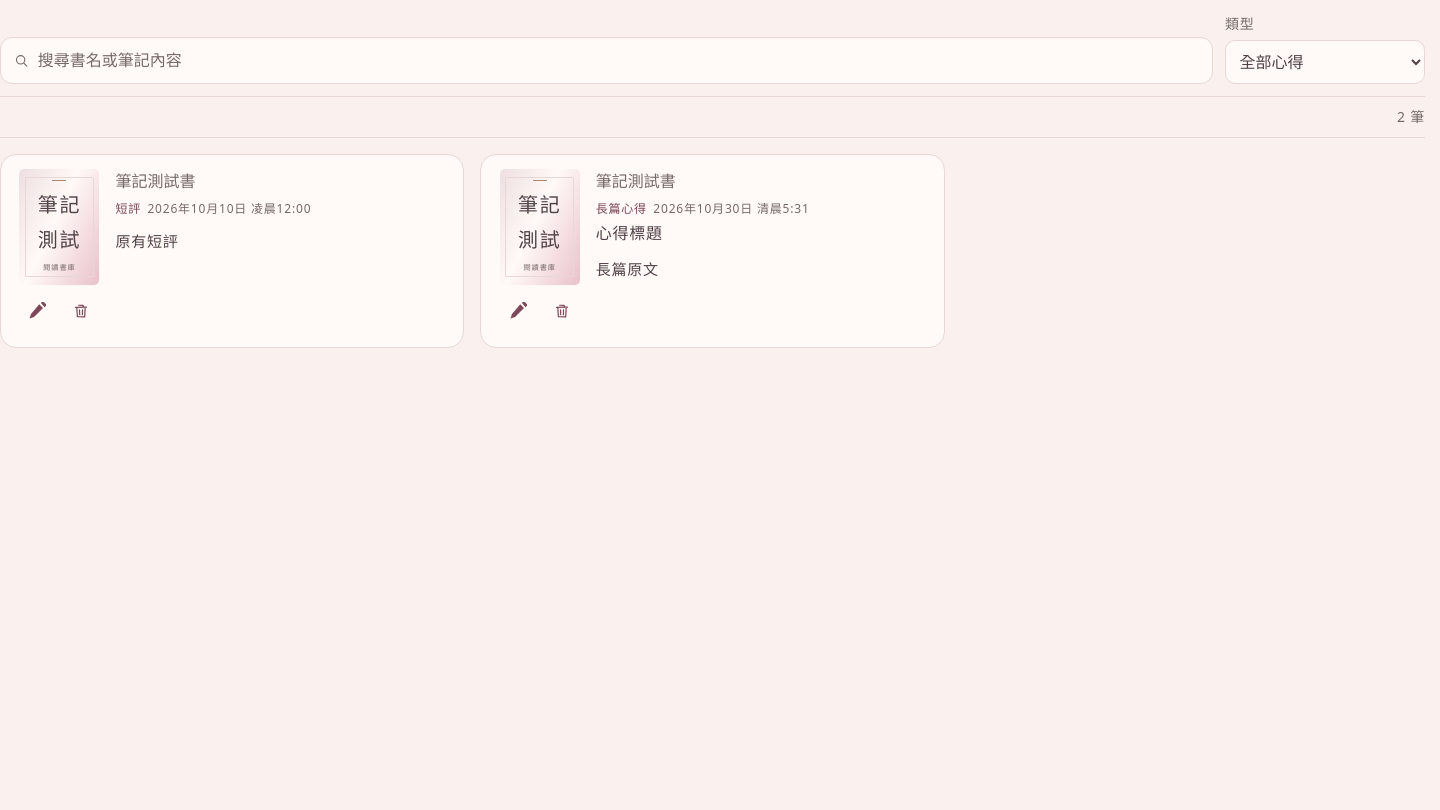
Test: edits in a dialog, preserves filters and relations, then restores the original control without scrolling
Expected: the text "原有短評" is shown, [115,231,179,251]
Step 1. Type "原有" into the search field → point(619, 61), box [38,46,1200,76]
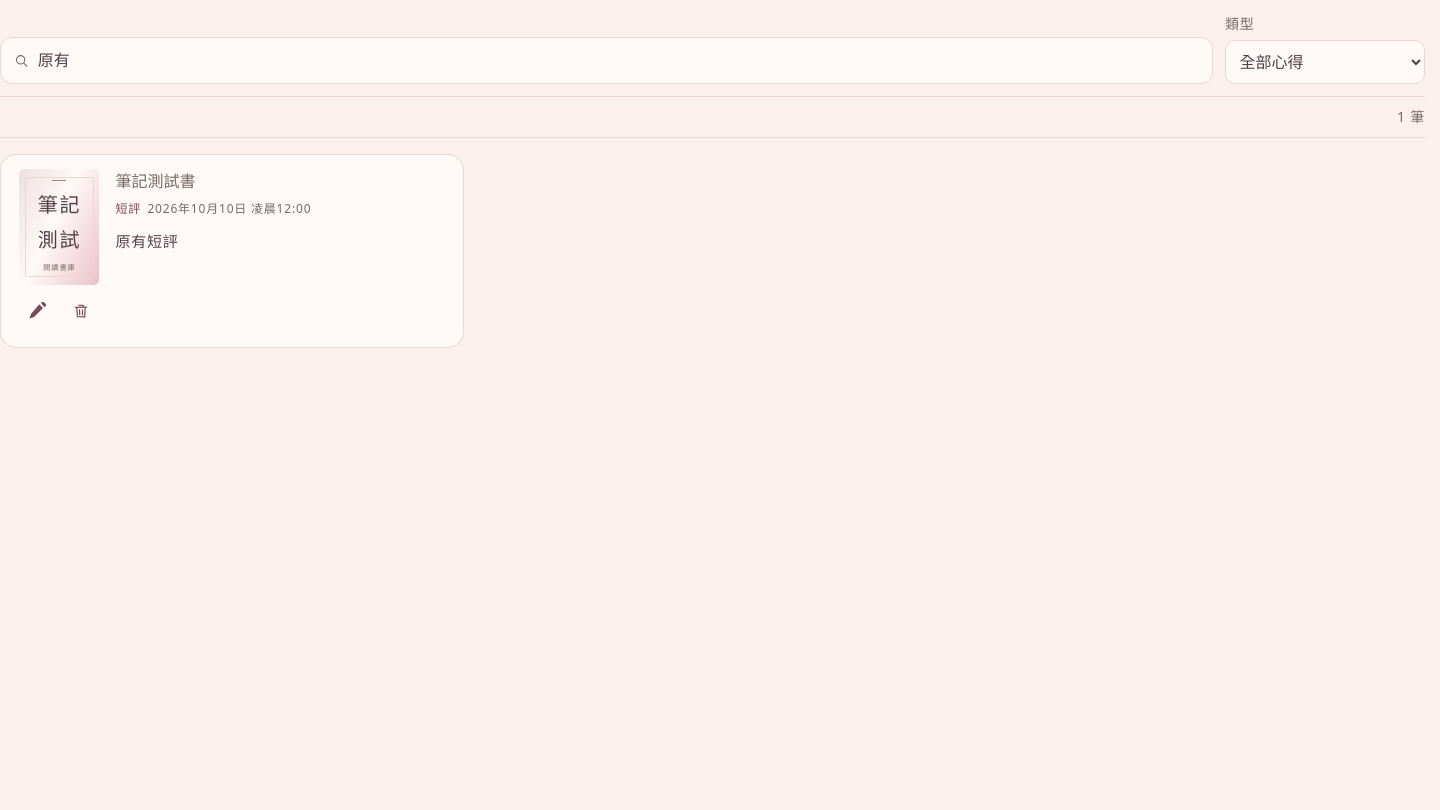
Step 2. Select "短評" in the dropdown named "依內容類型篩選" → point(1325, 62), box [1225,40,1425,84]
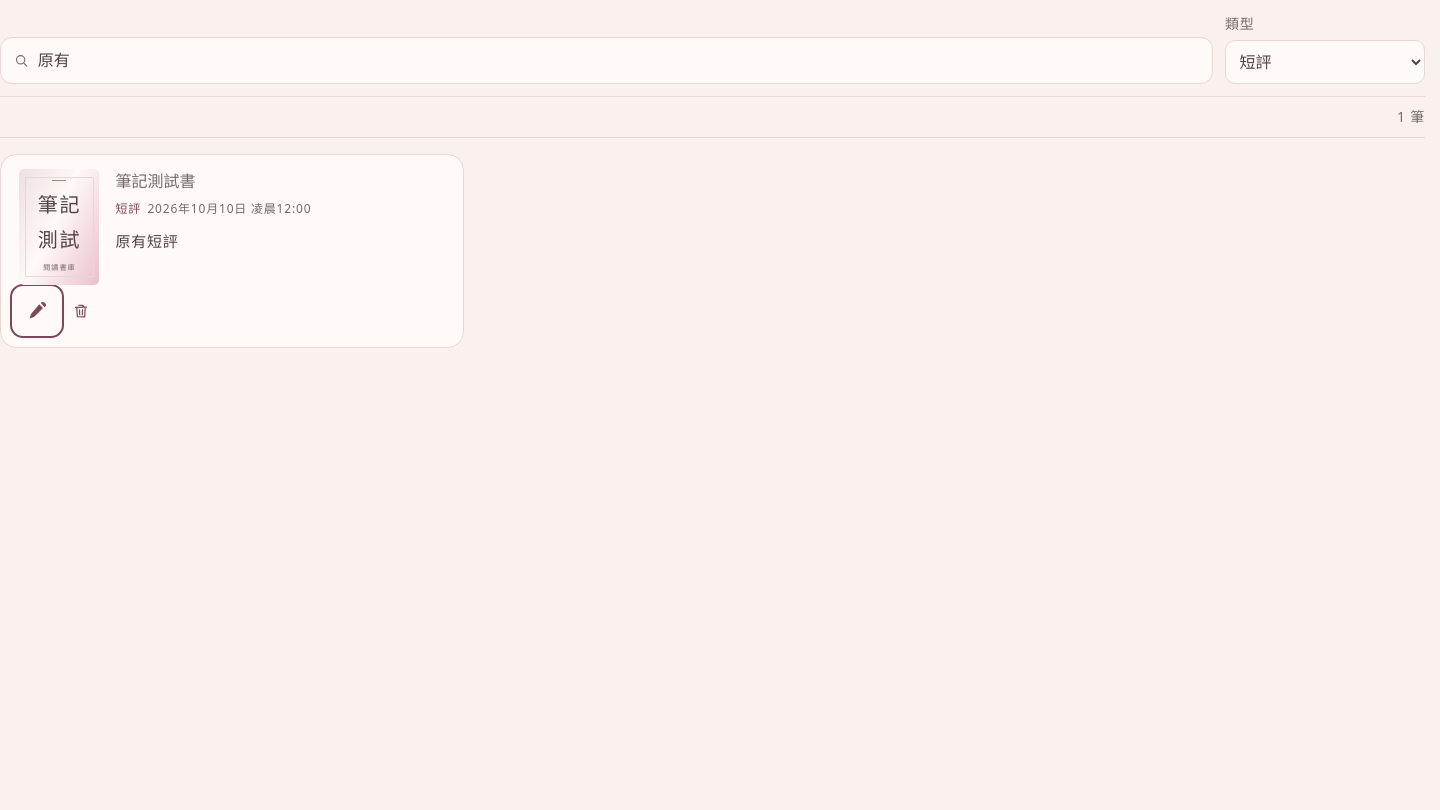
Step 3. Click the button named "編輯" → point(37, 311), box [15,289,59,333]
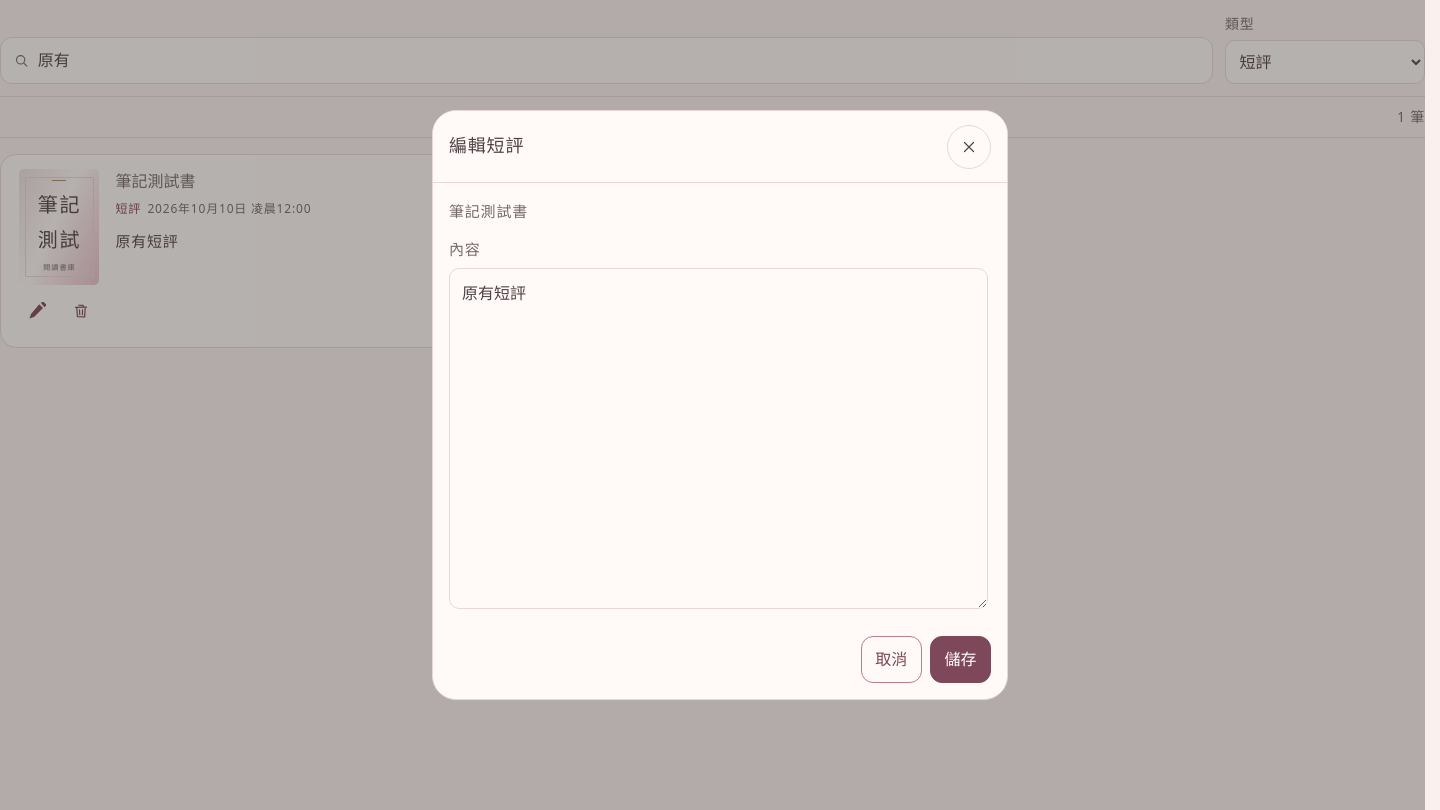
Expected: the element named "編輯" is shown, [15,169,103,333]
Step 4. Replace the text in the text box labelled "內容" with "原有短評已修改" → point(718, 438), box [449,268,988,609]
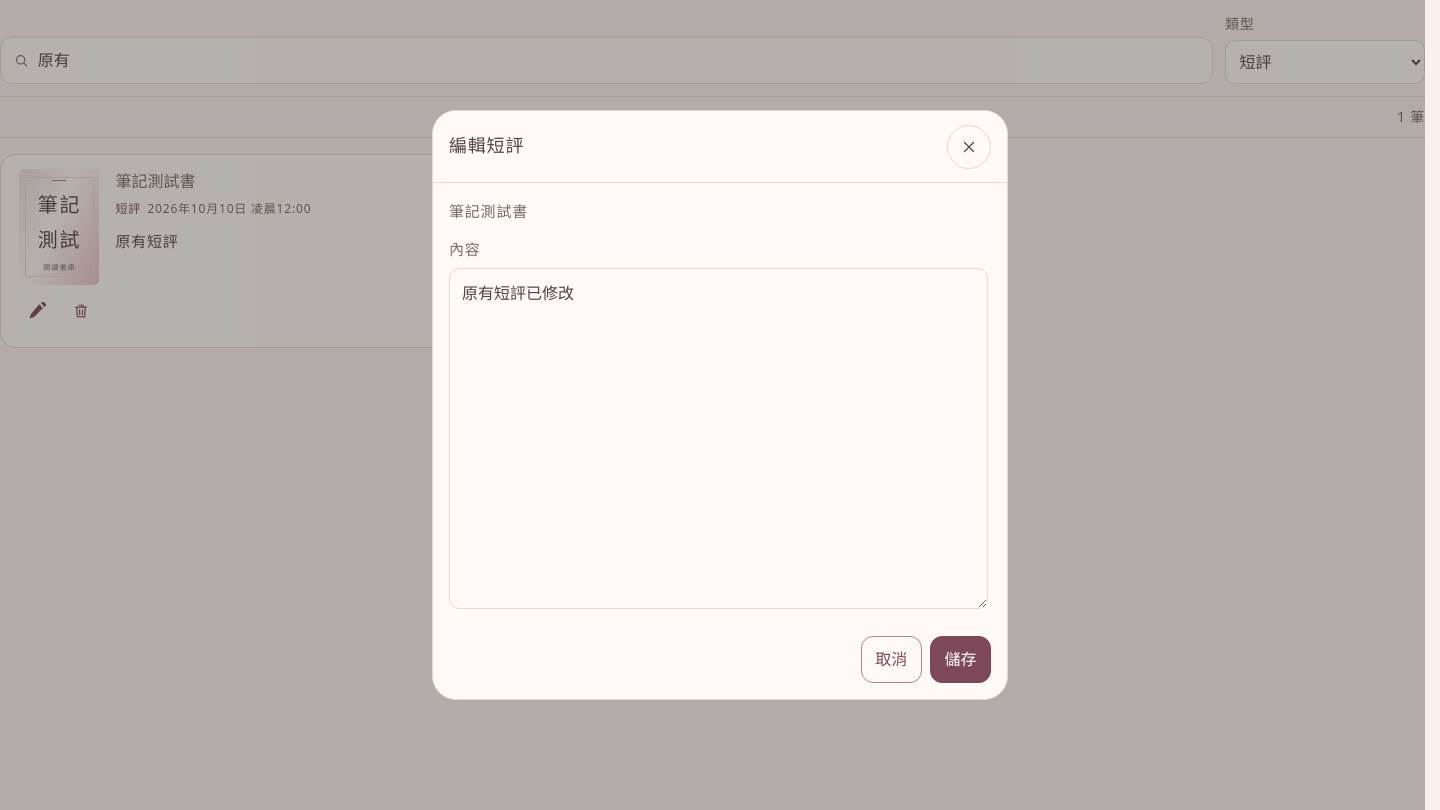
Step 5. Click the button "儲存" → point(960, 660), box [930,636,991,683]
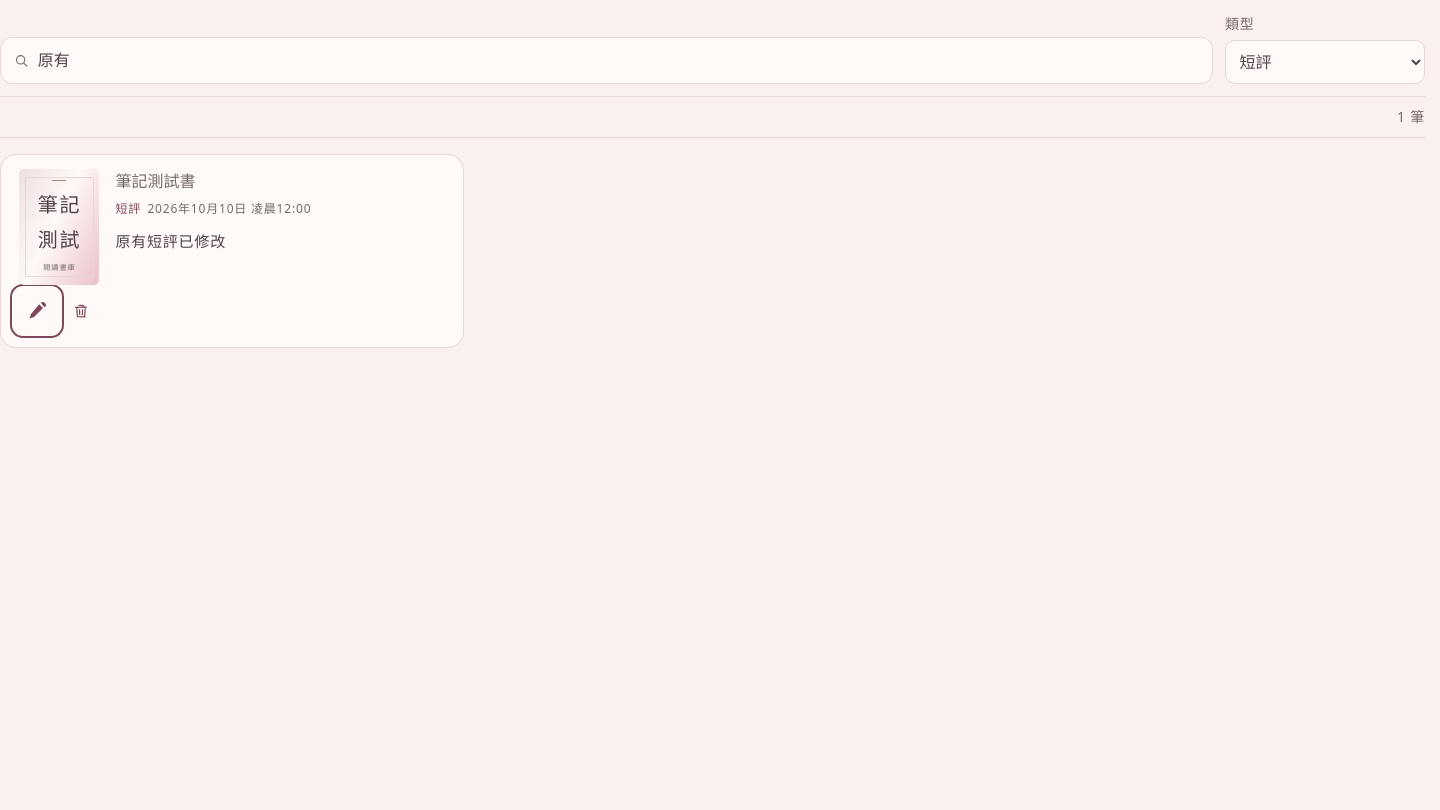
Expected: the dialog is gone
Expected: the text "原有短評已修改" is shown, [115,231,226,251]
